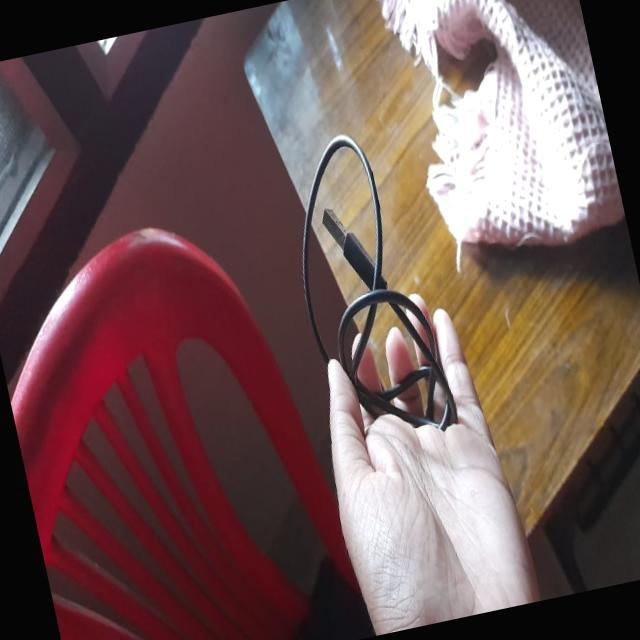Charger - Recyclable: (271, 120, 461, 453)
